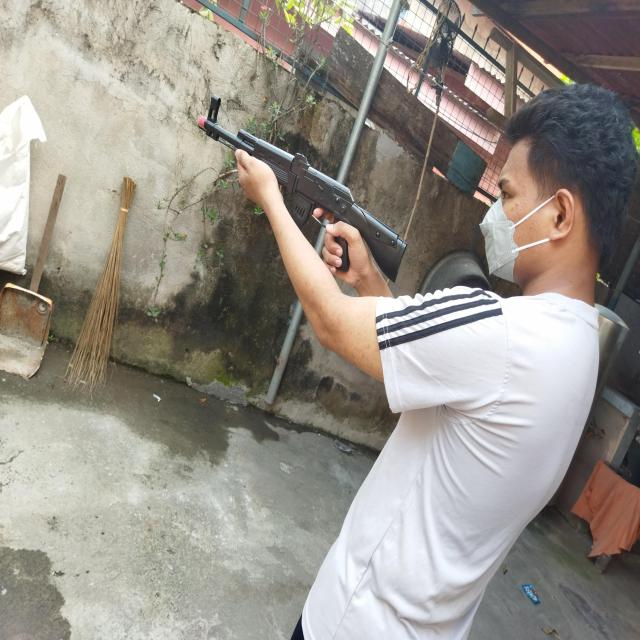rifle: (198, 95, 408, 283)
